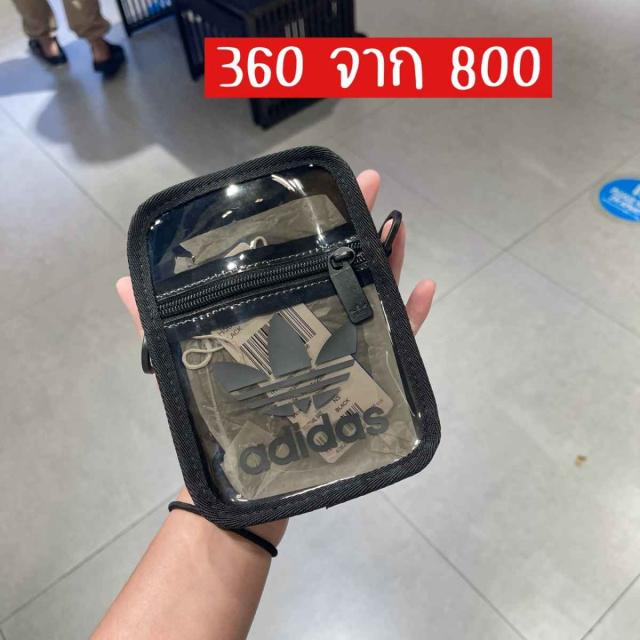Handbag: (123, 130, 457, 530)
